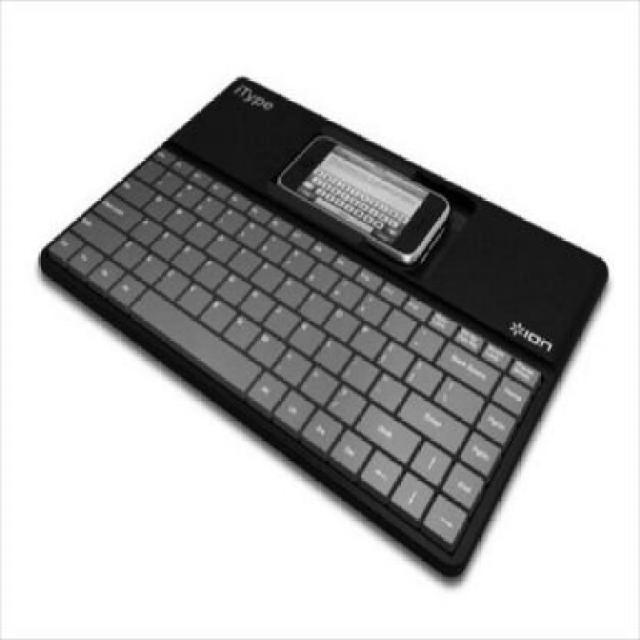fake: (274, 134, 454, 264)
